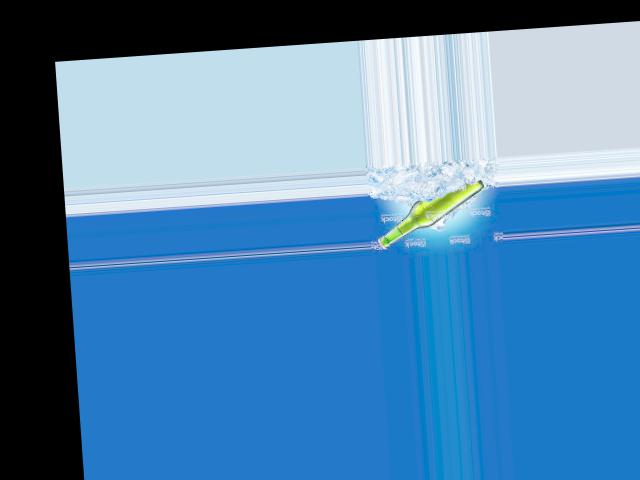beer: (372, 179, 487, 250)
